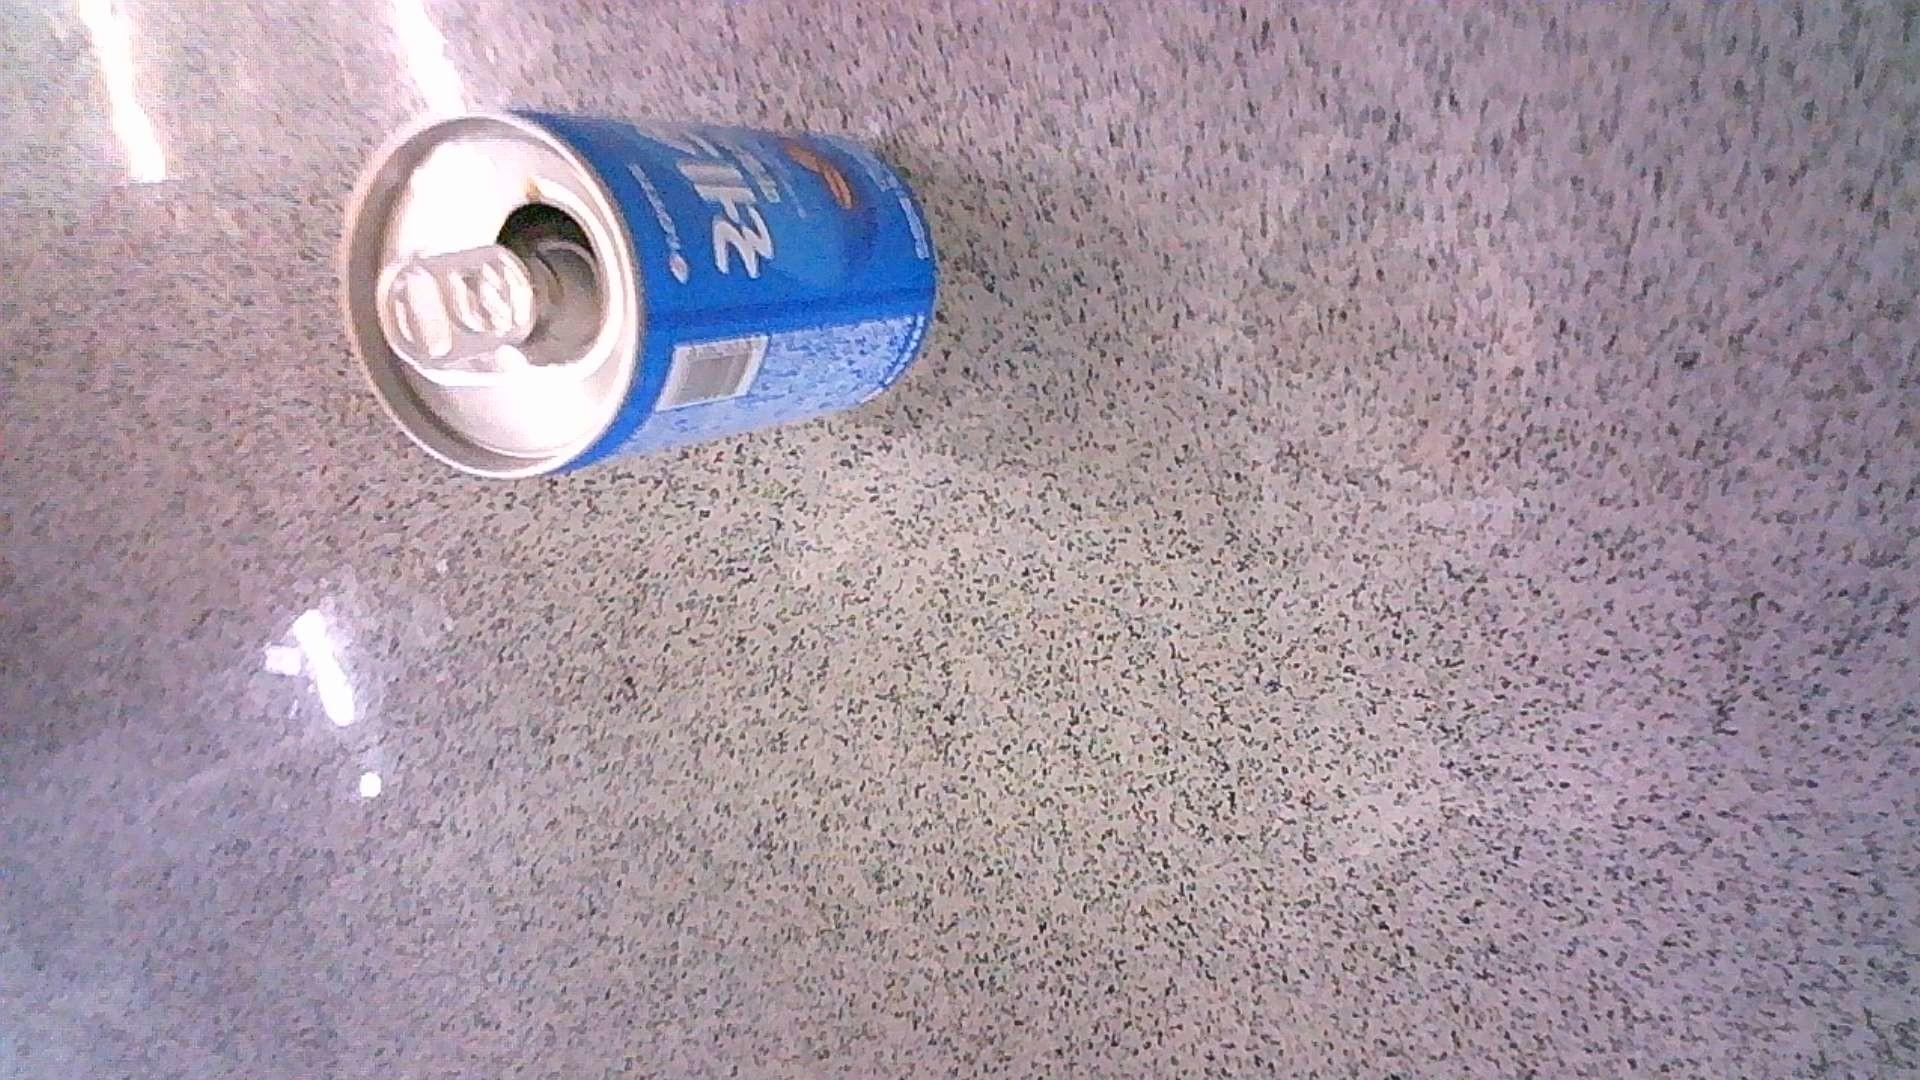letsbe: (339, 104, 938, 476)
